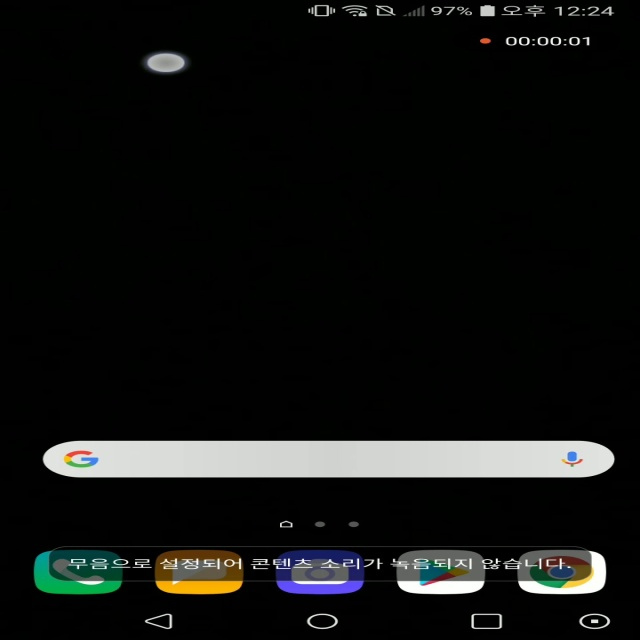Cursor: (144, 53, 189, 75)
